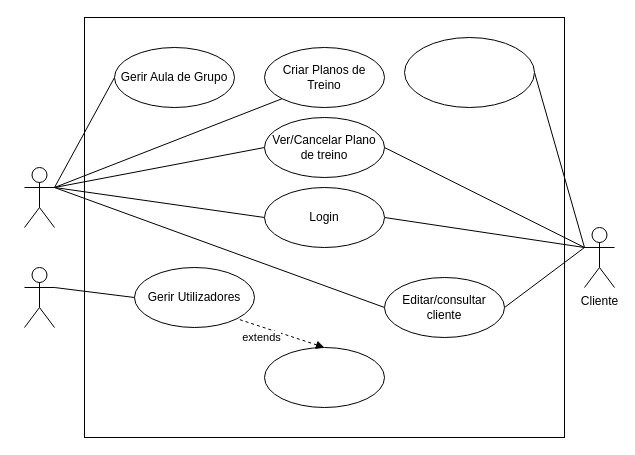
Some shapes in this 635 by 455 pixel diagram are drawn without their labels. The centre of each missing label's shape, as x and y in pixels:
"Admin" belongs at (x=39, y=297).
"Criar Clientes" belongs at (x=324, y=377).
"Inscrever em Aula de Grupo" belongs at (x=469, y=72).
"Instrutor" belongs at (x=39, y=197).
